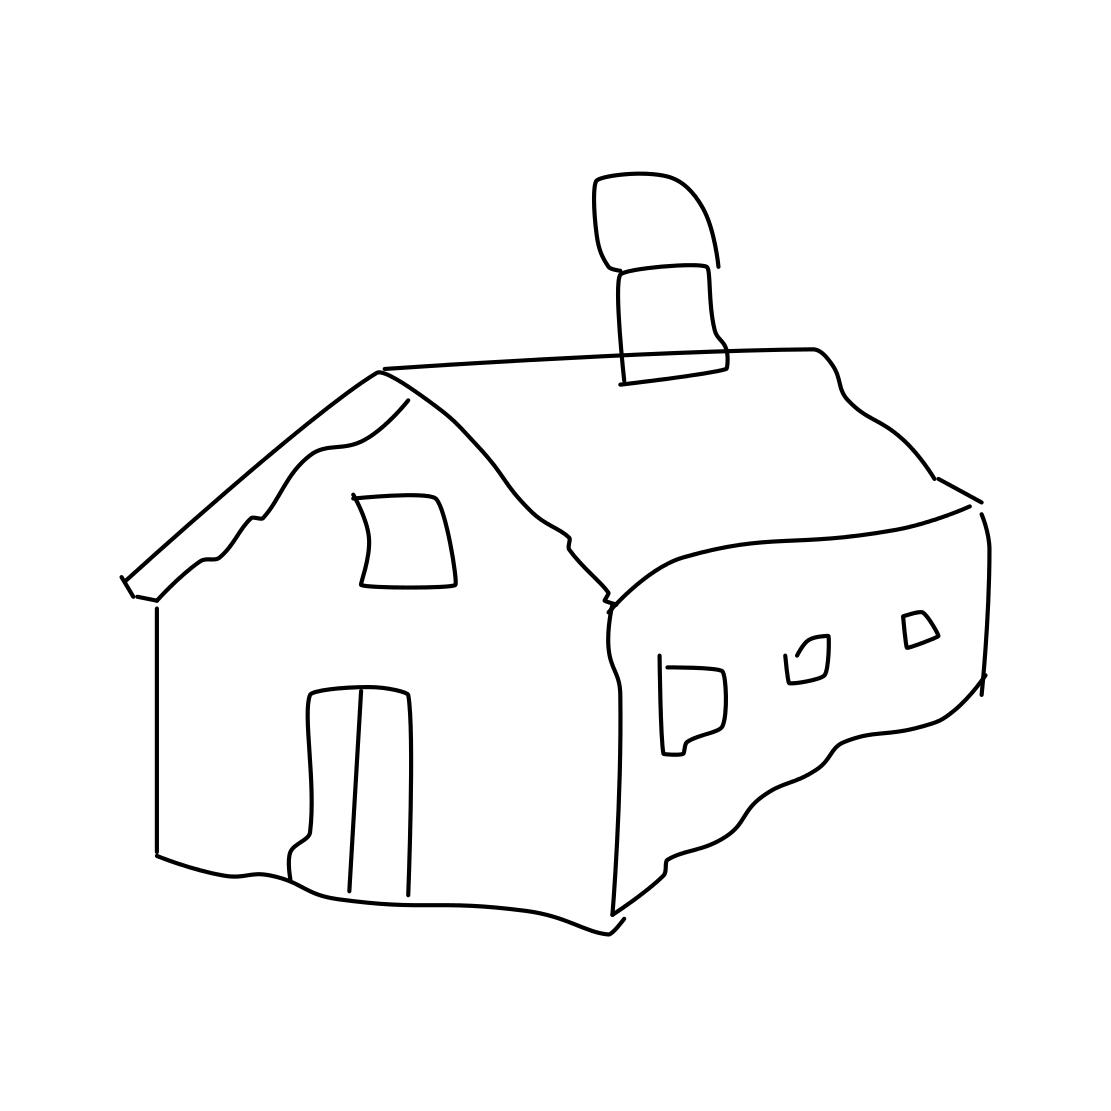House: (103, 165, 1024, 944)
